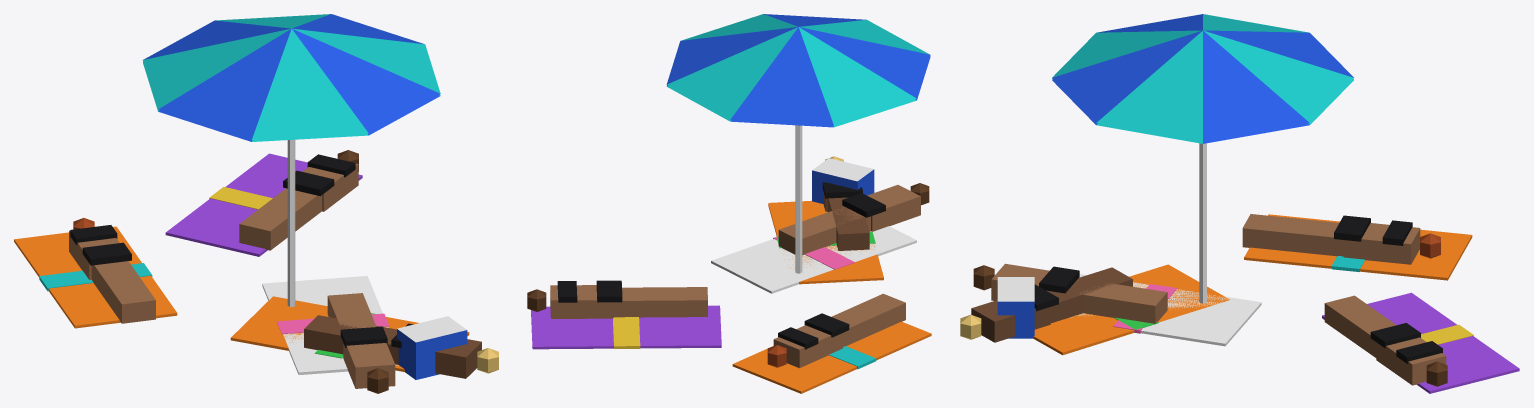
Rendered from nudista_grupo_9.obj.
The picture shows the model from 3 angles, left to right: view 1: azimuth 30°, elevation 25°; view 2: azimuth 150°, elevation 25°; view 3: azimuth 270°, elevation 25°; orthographic projection. The views are drawn at different scales.
Parts seen in each view (by area): view 1: nudista_grupo_9; view 2: nudista_grupo_9; view 3: nudista_grupo_9.
Part boxes in pixels (x1=…): nudista_grupo_9: x1=14, y1=14, x2=498, y2=393; nudista_grupo_9: x1=527, y1=14, x2=931, y2=393; nudista_grupo_9: x1=960, y1=14, x2=1519, y2=393.
Bounding box in the file's own units: 3.6 × 2.6 × 4.81.
